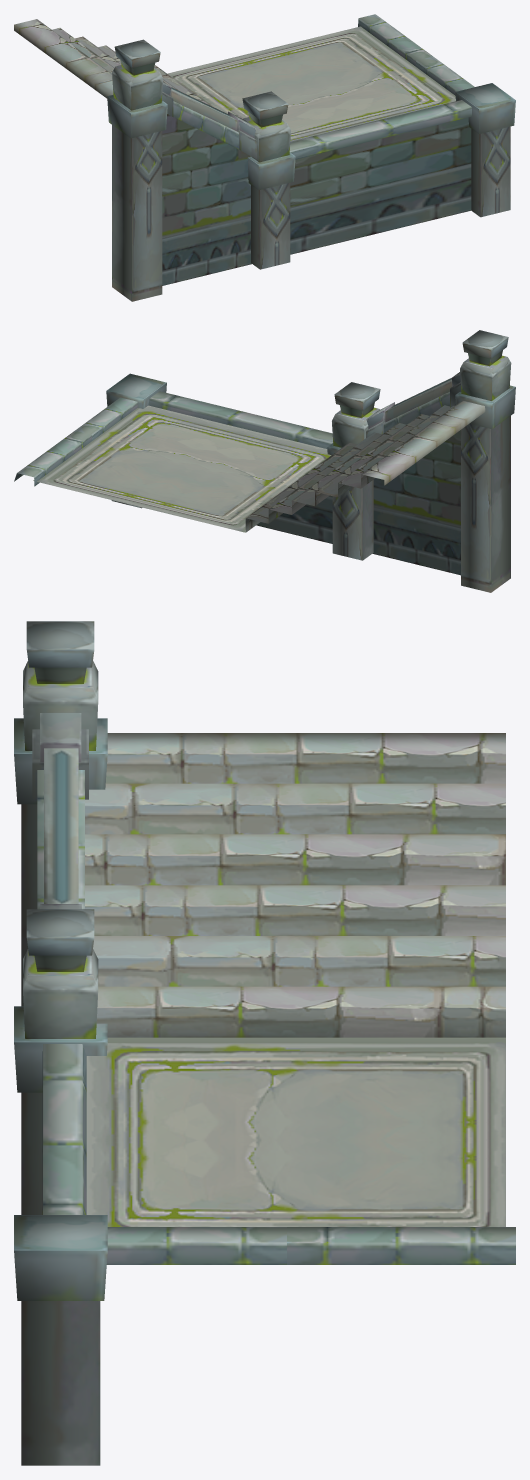
The model's file is Map_06_stairs03.FBX.
3 renders of one model, top to bottom at view 1: azimuth 30°, elevation 25°; view 2: azimuth 150°, elevation 25°; view 3: azimuth 270°, elevation 25°, orthographic. The views are drawn at different scales.
Parts seen in each view (by area): view 1: Map_06_stairs03; view 2: Map_06_stairs03; view 3: Map_06_stairs03.
Part boxes in pixels (x1,y1,x2,y2): Map_06_stairs03: [14, 14, 515, 301]; Map_06_stairs03: [14, 330, 515, 592]; Map_06_stairs03: [14, 621, 515, 1465].
Bounding box in the file's own units: 1424 × 811 × 855.
